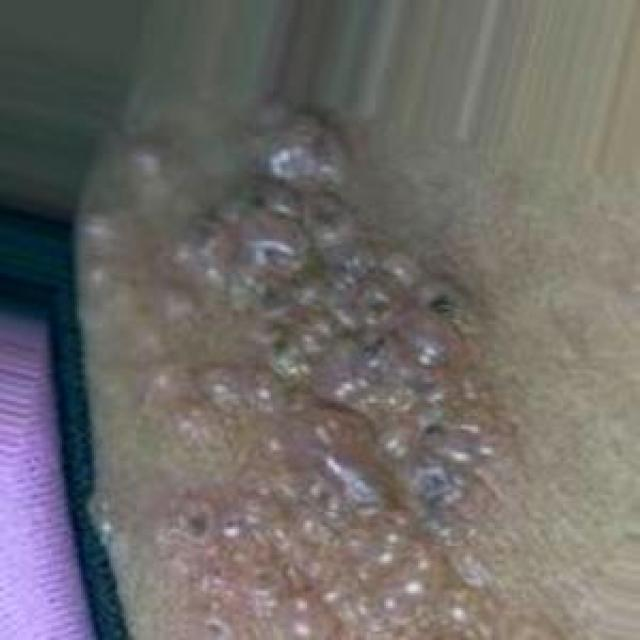Shingles: (81, 104, 494, 640)
